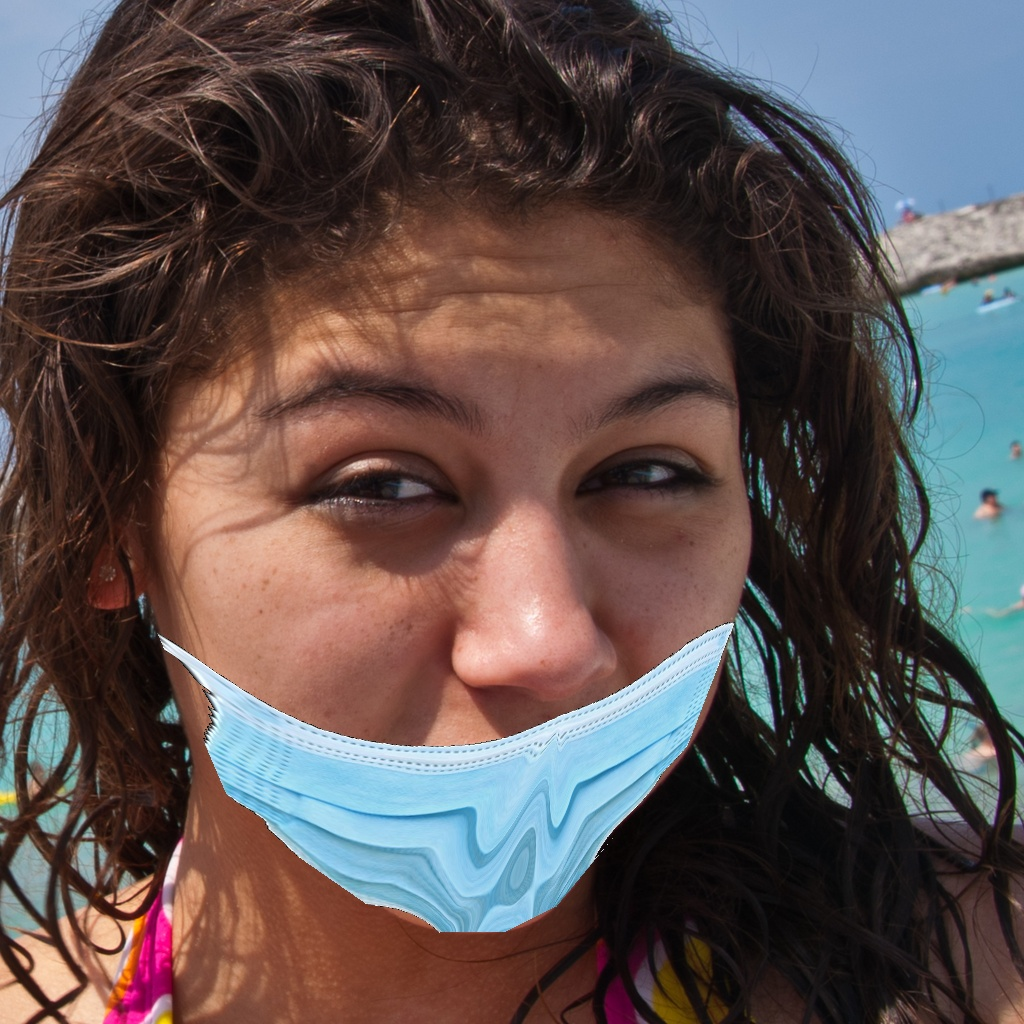mask_weared_incorrect: (146, 357, 763, 958)
